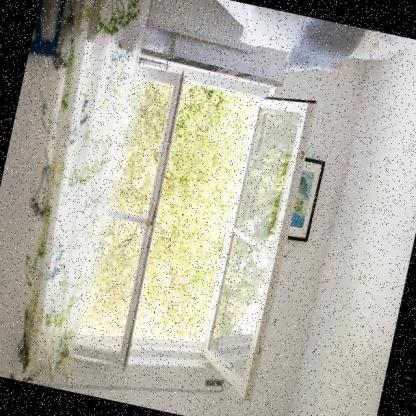Window: (62, 52, 322, 408)
